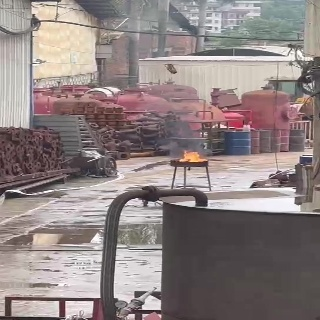fire: (177, 150, 208, 162)
